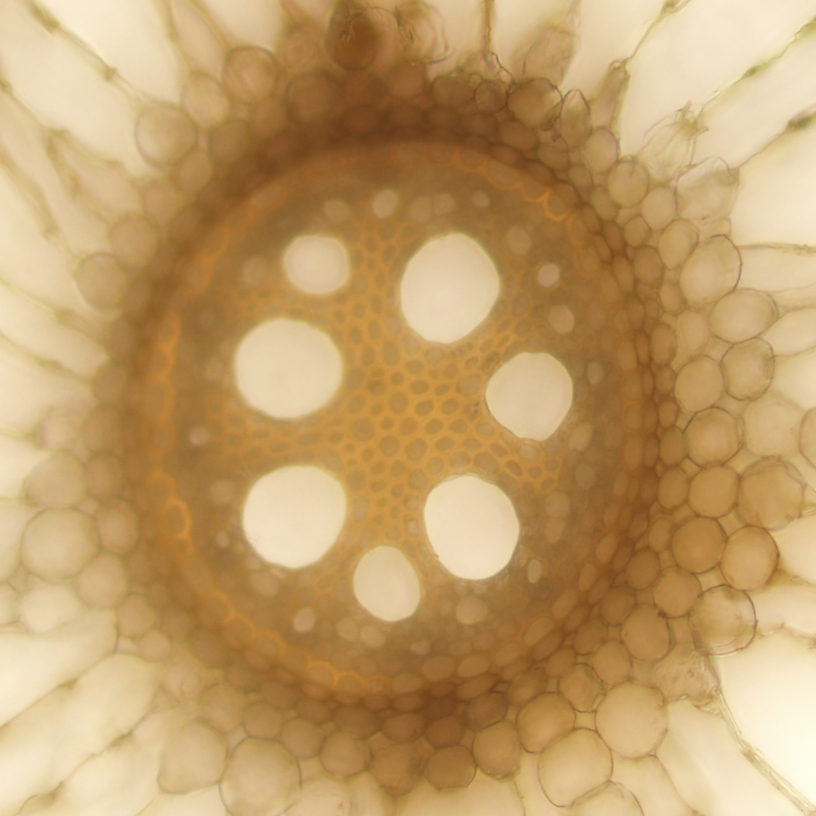lm: (398, 232, 500, 344), (233, 317, 343, 418), (243, 463, 347, 568), (423, 475, 522, 578), (485, 352, 574, 440), (351, 544, 420, 622), (282, 233, 350, 296)
